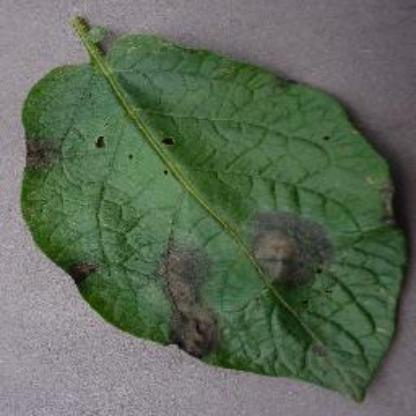Late-Blight: (23, 10, 412, 404)
